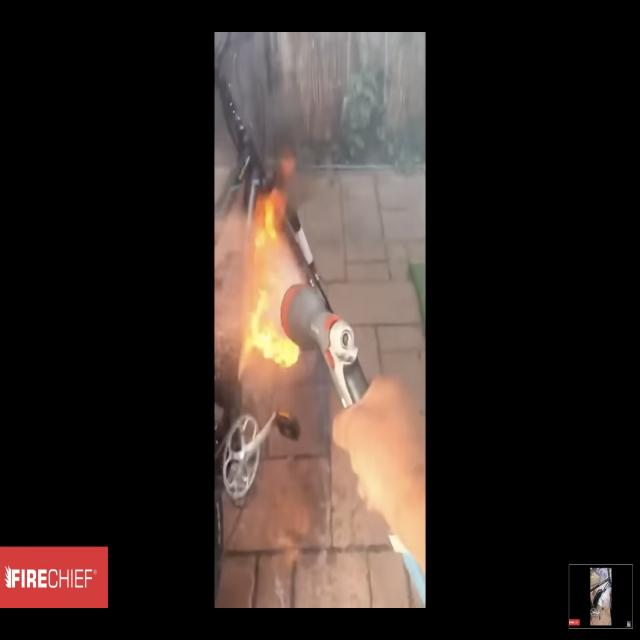Fogo: (218, 181, 332, 397)
